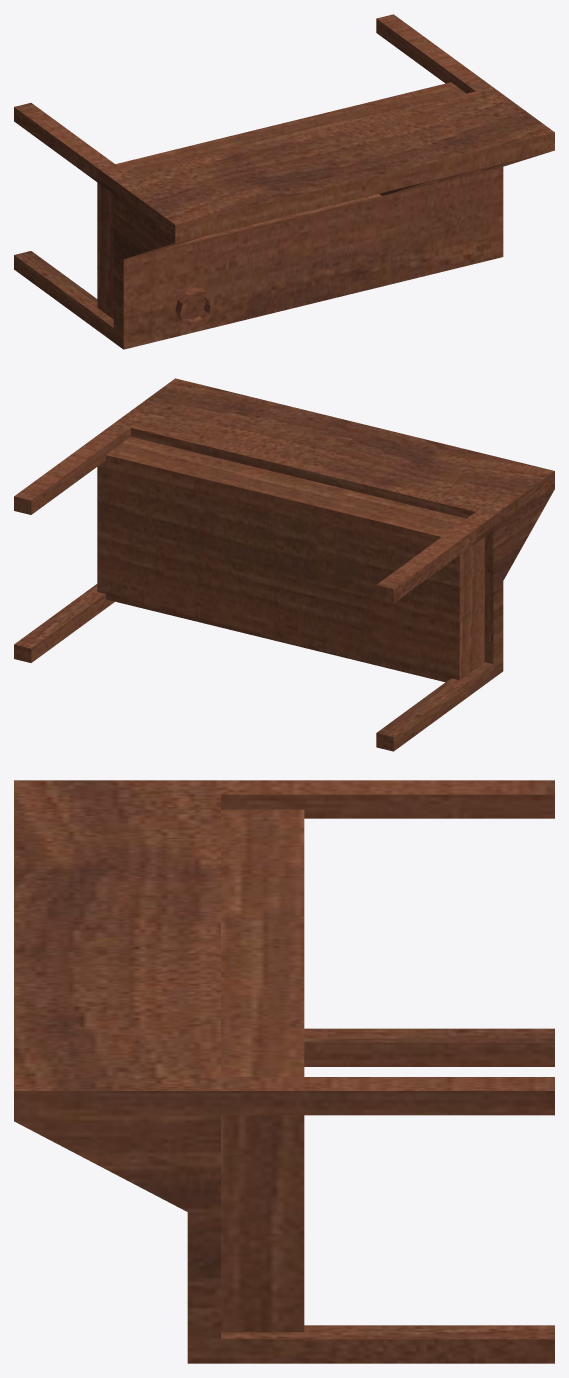
3 views of the same model, one above another, from view 1: azimuth 30°, elevation 25°; view 2: azimuth 150°, elevation 25°; view 3: azimuth 270°, elevation 25° (orthographic). The views are drawn at different scales.
Visible parts, largest first — view 1: base_link; view 2: base_link; view 3: base_link.
Boxes of the visible parts, x1=… form: base_link: x1=14, y1=14, x2=554, y2=349; base_link: x1=14, y1=378, x2=554, y2=751; base_link: x1=14, y1=780, x2=554, y2=1363.
Bounding box in the file's own units: 1.1 × 0.45 × 0.8098.
1 material, 1 textured.
